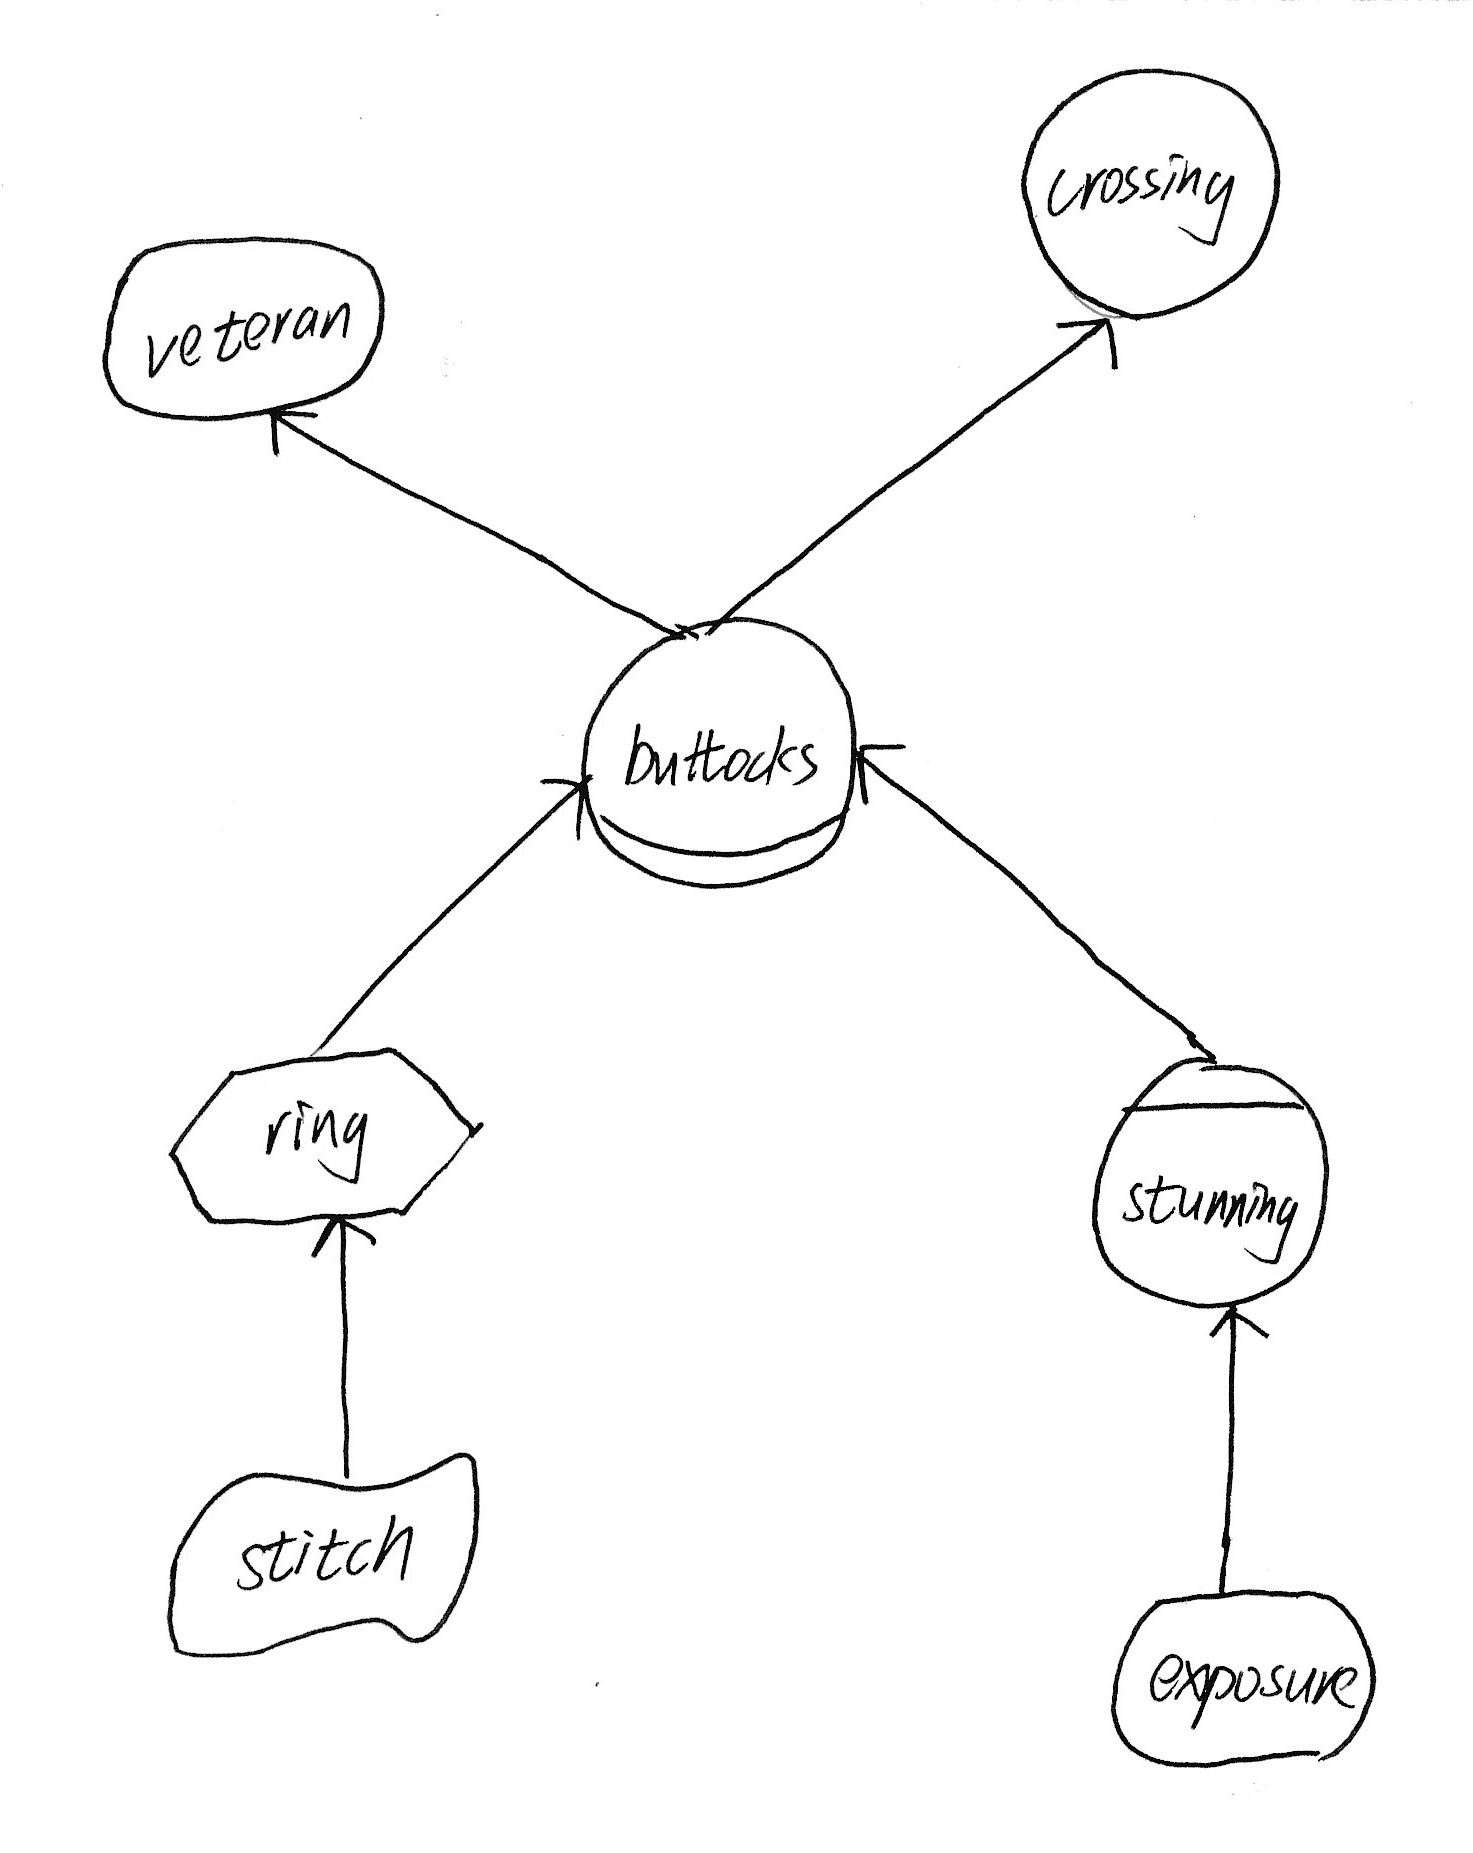actor: (1005, 47, 1301, 344)
agent: (1076, 1033, 1353, 1330)
arrow: (1041, 302, 1134, 385), (840, 722, 916, 817), (299, 1202, 387, 1283), (247, 393, 339, 468), (1186, 1289, 1283, 1358), (537, 757, 603, 848)
goal: (80, 214, 408, 444), (1095, 1570, 1399, 1781)
quality: (147, 1433, 503, 1670)
role: (558, 597, 882, 908)
task: (150, 1033, 503, 1244)
